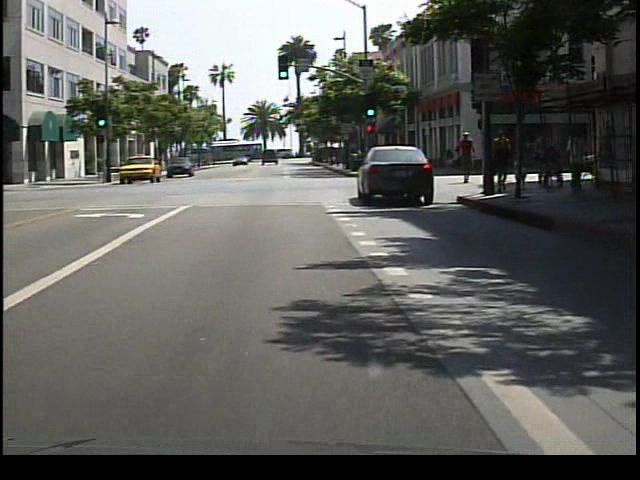person: (458, 130, 481, 190)
